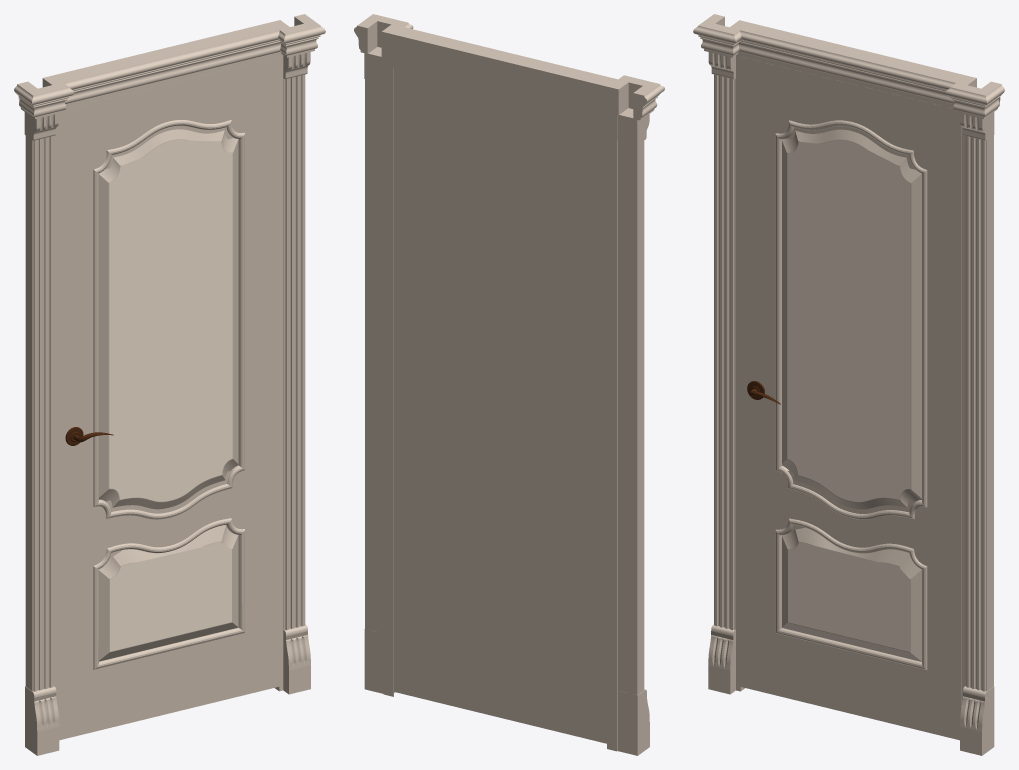
Rendered from door.FBX.
3 views of the same model, side by side, from view 1: azimuth 30°, elevation 25°; view 2: azimuth 150°, elevation 25°; view 3: azimuth 330°, elevation 25° (orthographic).
Visible parts, largest first — view 1: Rectangle148; view 2: Rectangle148; view 3: Rectangle148.
Boxes of the visible parts, x1,y1,x2,y2 form: Rectangle148: (14,14,325,755); Rectangle148: (354,14,664,755); Rectangle148: (693,14,1004,755).
Bounding box in the file's own units: 1015 × 2191 × 107.
